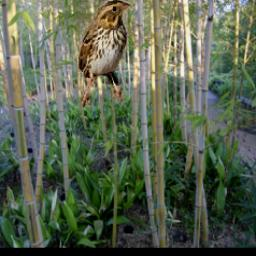Sparrow: (77, 0, 132, 107)
